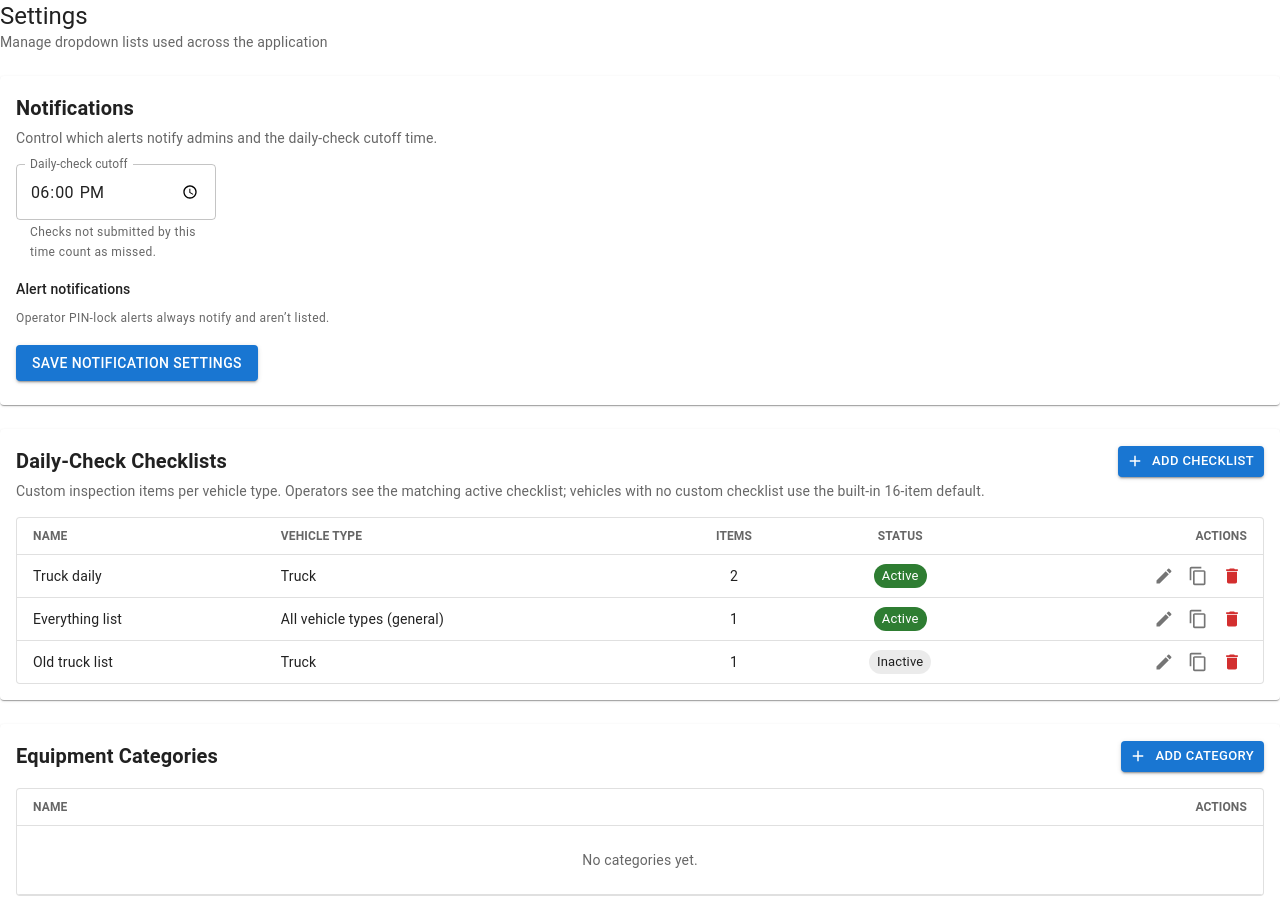
it: UXP-6 (6e): Duplicate + inline validation › the dialog Paper is a form with pinned Cancel/Add (one grammar)
The image size is (1280, 900).
Check: the text "Truck daily" is shown, box [33,568,102,584]
Click the button "Add Checklist": (1191, 461) [1118,446,1264,477]
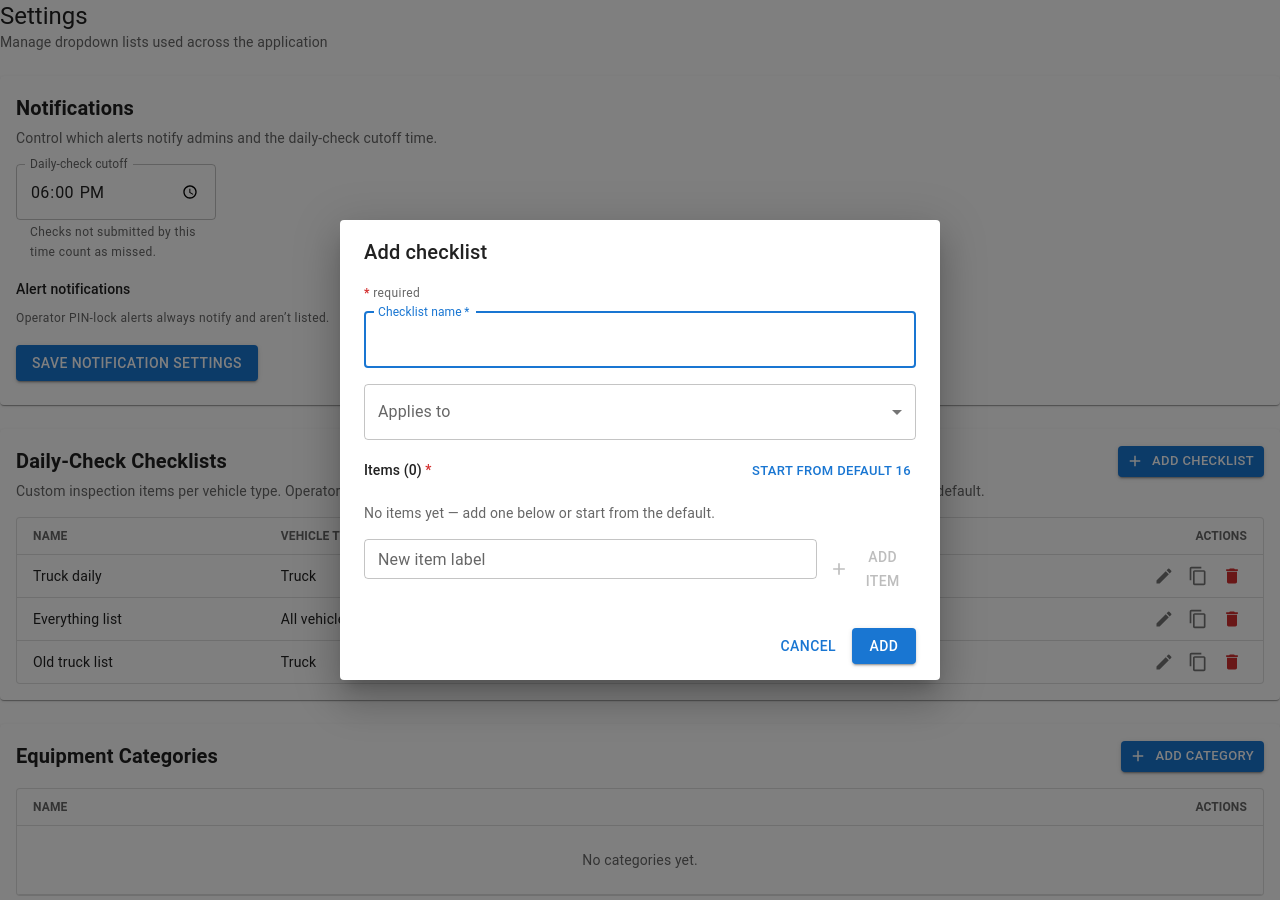
Check: the button "Cancel" is shown, box [772,628,844,664]
Check: the button "Add" is shown, box [852,628,916,664]
